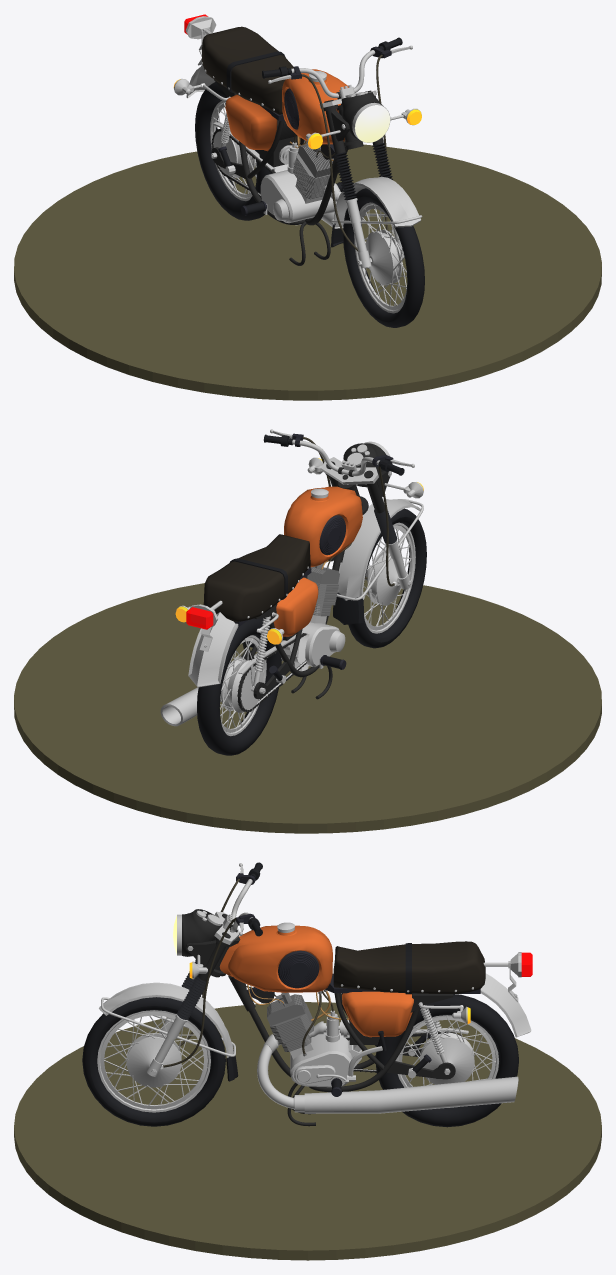
Rendered from motorcycle_model_planeta_sport.glb.
The picture shows the model from 3 angles, top to bottom: view 1: azimuth 30°, elevation 25°; view 2: azimuth 150°, elevation 25°; view 3: azimuth 270°, elevation 25°; orthographic projection.
Parts seen in each view (by area): view 1: Circle.003, Cube.002, Wheel front, Wheel front.003, Cube.001, Cube.003, Wheel front.001, Cylinder.030, Circle, Sphere, Cylinder.017, Cylinder.003 (+10 smaller); view 2: Circle.003, Cube.002, Wheel front.003, Cube.001, Wheel front, Wheel front.001, Wheel front.004, Cube.003, Cylinder.030, Circle, Cylinder.072, Cylinder.027 (+5 smaller); view 3: Circle.003, Cube.002, Wheel front, Cylinder.027, Cube.001, Wheel front.003, Cube.003, Cylinder.002, Circle, Wheel front.001, Cylinder.030, Circle.001 (+14 smaller).
Boxes of the visible parts, x1=… form: Circle.003: x1=14, y1=142, x2=601, y2=400; Cube.002: x1=202, y1=26, x2=293, y2=114; Wheel front: x1=343, y1=188, x2=424, y2=327; Wheel front.003: x1=195, y1=82, x2=273, y2=220; Cube.001: x1=282, y1=69, x2=348, y2=144; Cube.003: x1=225, y1=94, x2=299, y2=151; Wheel front.001: x1=333, y1=176, x2=420, y2=228; Cylinder.030: x1=260, y1=170, x2=336, y2=223; Circle: x1=366, y1=229, x2=402, y2=285; Sphere: x1=355, y1=105, x2=390, y2=142; Cylinder.017: x1=334, y1=142, x2=392, y2=200; Cylinder.003: x1=345, y1=198, x2=404, y2=268; Circle.003: x1=14, y1=580, x2=601, y2=833; Cube.002: x1=203, y1=534, x2=310, y2=621; Wheel front.003: x1=197, y1=618, x2=281, y2=755; Cube.001: x1=284, y1=486, x2=362, y2=567; Wheel front: x1=348, y1=508, x2=426, y2=648; Wheel front.001: x1=337, y1=499, x2=420, y2=600; Wheel front.004: x1=188, y1=612, x2=238, y2=687; Cube.003: x1=273, y1=577, x2=318, y2=636; Cylinder.030: x1=281, y1=622, x2=339, y2=666; Circle: x1=367, y1=550, x2=403, y2=605; Cylinder.072: x1=227, y1=660, x2=263, y2=712; Cylinder.027: x1=160, y1=653, x2=282, y2=726; Circle.003: x1=14, y1=1002, x2=601, y2=1260; Cube.002: x1=333, y1=941, x2=485, y2=993; Wheel front: x1=82, y1=997, x2=225, y2=1126; Cylinder.027: x1=293, y1=1076, x2=518, y2=1113; Cube.001: x1=219, y1=925, x2=332, y2=992; Wheel front.003: x1=375, y1=994, x2=518, y2=1127; Cube.003: x1=342, y1=991, x2=413, y2=1037; Cylinder.002: x1=97, y1=1010, x2=210, y2=1112; Circle: x1=126, y1=1033, x2=181, y2=1087; Wheel front.001: x1=99, y1=982, x2=233, y2=1057; Cylinder.030: x1=290, y1=1030, x2=353, y2=1087; Circle.001: x1=420, y1=1037, x2=474, y2=1084.
Size of the model in its own units: 2.68 by 1.22 by 2.68.
